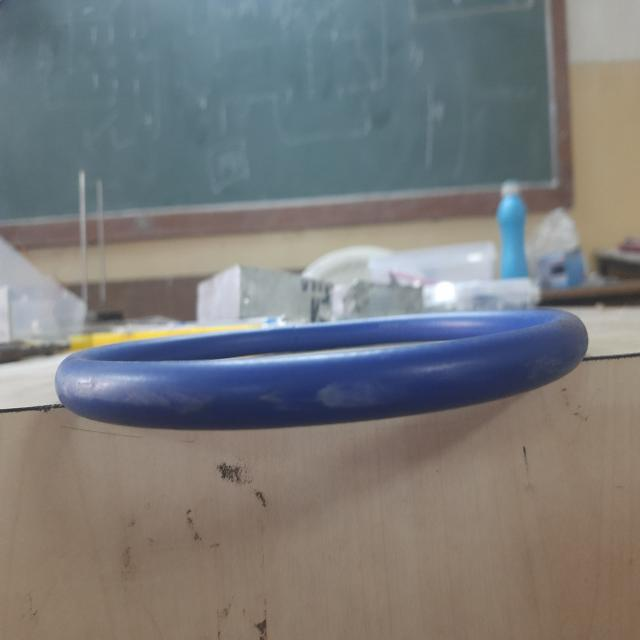daire: (58, 311, 584, 427)
